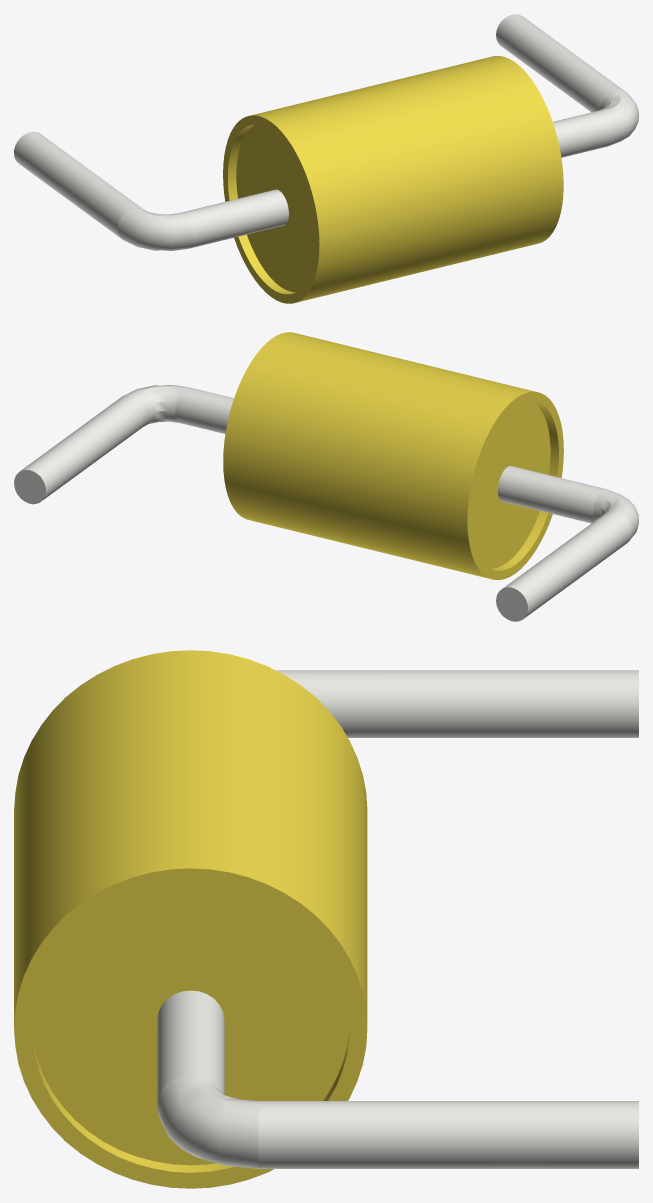
Rendered from C_Axial_L3.8mm_D2.6mm_P7.50mm_Horizontal.glb.
The picture shows the model from 3 angles, top to bottom: view 1: azimuth 30°, elevation 25°; view 2: azimuth 150°, elevation 25°; view 3: azimuth 270°, elevation 25°; orthographic projection. The views are drawn at different scales.
Visible parts, largest first — view 1: Shape_IndexedFaceSet, Shape_IndexedFaceSet.005, Shape_IndexedFaceSet.010, Shape_IndexedFaceSet.008, Shape_IndexedFaceSet.012, Shape_IndexedFaceSet.009, Shape_IndexedFaceSet.001, Shape_IndexedFaceSet.011, Shape_IndexedFaceSet.003; view 2: Shape_IndexedFaceSet, Shape_IndexedFaceSet.005, Shape_IndexedFaceSet.010, Shape_IndexedFaceSet.008, Shape_IndexedFaceSet.012, Shape_IndexedFaceSet.001, Shape_IndexedFaceSet.011, Shape_IndexedFaceSet.003, Shape_IndexedFaceSet.009, Shape_IndexedFaceSet.007, Shape_IndexedFaceSet.013; view 3: Shape_IndexedFaceSet, Shape_IndexedFaceSet.006, Shape_IndexedFaceSet.012, Shape_IndexedFaceSet.008, Shape_IndexedFaceSet.002, Shape_IndexedFaceSet.011, Shape_IndexedFaceSet.010, Shape_IndexedFaceSet.004.
Boxes of the visible parts, x1,y1,x2,y2 form: Shape_IndexedFaceSet: (251,56,563,302); Shape_IndexedFaceSet.005: (236,124,314,292); Shape_IndexedFaceSet.010: (180,111,611,248); Shape_IndexedFaceSet.008: (14,131,142,238); Shape_IndexedFaceSet.012: (496,14,625,112); Shape_IndexedFaceSet.009: (118,207,193,250); Shape_IndexedFaceSet.001: (223,115,319,303); Shape_IndexedFaceSet.011: (598,90,638,145); Shape_IndexedFaceSet.003: (228,125,295,294); Shape_IndexedFaceSet: (223,332,535,579); Shape_IndexedFaceSet.005: (472,401,550,568); Shape_IndexedFaceSet.010: (175,387,606,523); Shape_IndexedFaceSet.008: (503,511,631,618); Shape_IndexedFaceSet.012: (21,393,149,499); Shape_IndexedFaceSet.001: (467,391,563,579); Shape_IndexedFaceSet.011: (127,385,187,426); Shape_IndexedFaceSet.003: (491,401,558,570); Shape_IndexedFaceSet.009: (593,489,638,539); Shape_IndexedFaceSet.007: (496,587,527,621); Shape_IndexedFaceSet.013: (14,470,45,504); Shape_IndexedFaceSet: (14,650,367,1170); Shape_IndexedFaceSet.006: (32,884,349,1165); Shape_IndexedFaceSet.012: (258,1101,638,1168); Shape_IndexedFaceSet.008: (276,670,638,737); Shape_IndexedFaceSet.002: (14,868,367,1188); Shape_IndexedFaceSet.011: (157,1075,258,1168); Shape_IndexedFaceSet.010: (157,990,224,1102); Shape_IndexedFaceSet.004: (32,1031,349,1172).
Size of the model in its own units: 3.15 by 1.02 by 1.81.
